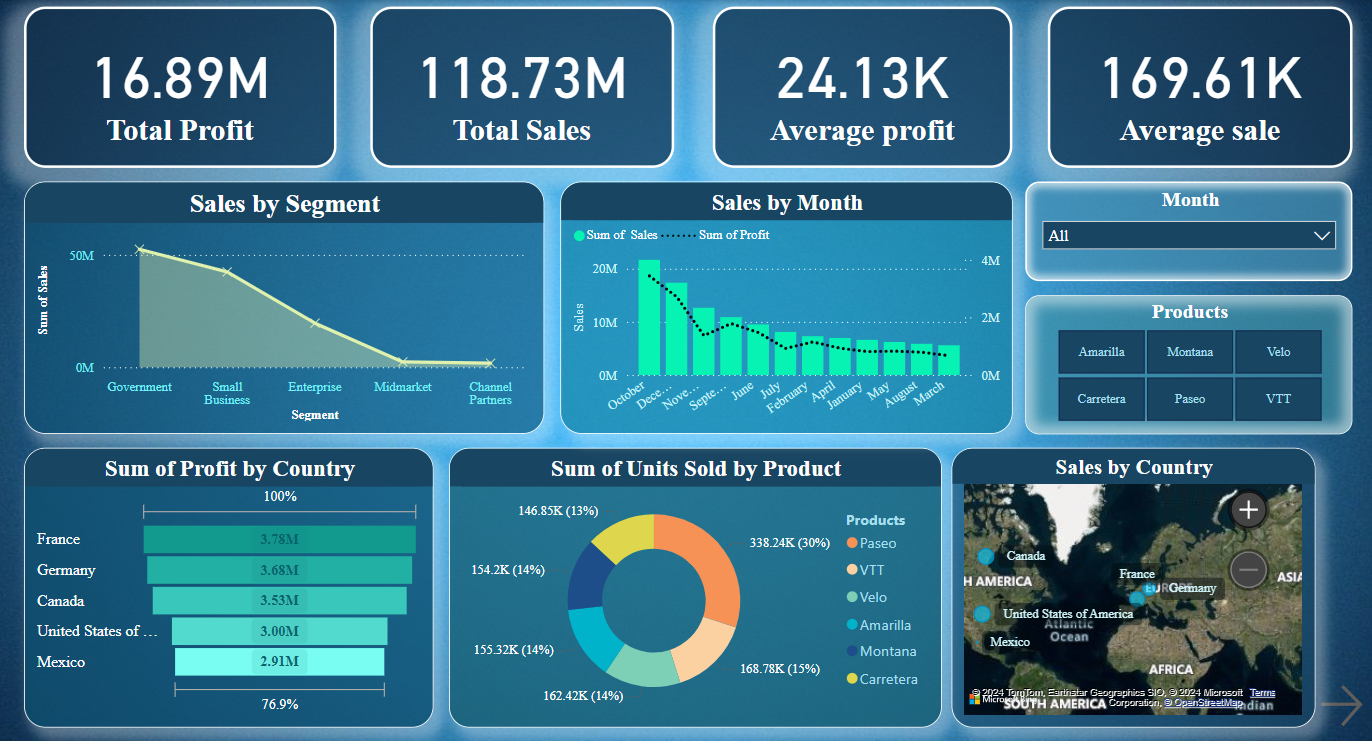

What the dashboard file says about the page in this screenshot:
{"tool":"powerbi","page":{"name":"Page 2","canvas":[1282,695],"ordinal":1},"visuals":[{"type":"actionButton","box":[1218.2,620.7,64.1,74.5],"z":0},{"type":"card","fields":{"Values":["financials.Total Profit"]},"box":[23.3,7,291.2,150.2],"z":1000},{"type":"card","fields":{"Values":["financials.Total Sales"]},"box":[345.9,7,283,150.2],"z":2000},{"type":"card","fields":{"Values":["financials.Average profit"]},"box":[665,7,279.5,150.2],"z":3000},{"type":"card","fields":{"Values":["financials.Average sale"]},"box":[977.1,7,284.2,150.2],"z":4000},{"type":"lineChart","title":"Sales by Segment","fields":{"Category":["financials.Segment"],"Y":["Sum(financials. Sales)"]},"box":[23.3,170,484.5,235.3],"z":5000},{"type":"funnel","fields":{"Category":["financials.Country"],"Y":["Sum(financials.Profit)"]},"box":[23.3,418.1,382,260.9],"z":6000},{"type":"donutChart","fields":{"Category":["financials.Product"],"Y":["Sum(financials.Units Sold)"]},"box":[419.3,418.1,458.9,260.9],"z":7000},{"type":"lineClusteredColumnComboChart","title":"Sales by Month","fields":{"Category":["financials.Month Name"],"Y":["Sum(financials. Sales)"],"Y2":["Sum(financials.Profit)"]},"box":[522.9,170,421.6,235.3],"z":8000},{"type":"map","title":"Sales by Country","fields":{"Category":["financials.Country"],"Size":["Sum(financials. Sales)"]},"box":[887.4,418.1,338.9,260.9],"z":9000},{"type":"slicer","title":"Month","fields":{"Values":["financials.Date.Variation.Date Hierarchy.Month"]},"box":[956.1,170,305.1,93.2],"z":10000},{"type":"slicer","title":"Products","fields":{"Values":["financials.Product"]},"box":[956.1,276,305.1,129.3],"z":11000}]}

Visuals, with their boxes in screenshot pixels (x1, y1, x2, y2), scaled from the page's 1282x695 canvas onto the 1372x741 screenshot:
actionButton: Rect(1304, 662, 1371, 740)
card - financials.Total Profit: Rect(25, 7, 337, 168)
card - financials.Total Sales: Rect(370, 7, 673, 168)
card - financials.Average profit: Rect(712, 7, 1011, 168)
card - financials.Average sale: Rect(1046, 7, 1350, 168)
"Sales by Segment" lineChart: Rect(25, 181, 543, 432)
funnel - financials.Country x Sum(financials.Profit): Rect(25, 446, 434, 724)
donutChart - financials.Product x Sum(financials.Units Sold): Rect(449, 446, 940, 724)
"Sales by Month" lineClusteredColumnComboChart: Rect(560, 181, 1011, 432)
"Sales by Country" map: Rect(950, 446, 1312, 724)
"Month" slicer: Rect(1023, 181, 1350, 281)
"Products" slicer: Rect(1023, 294, 1350, 432)
